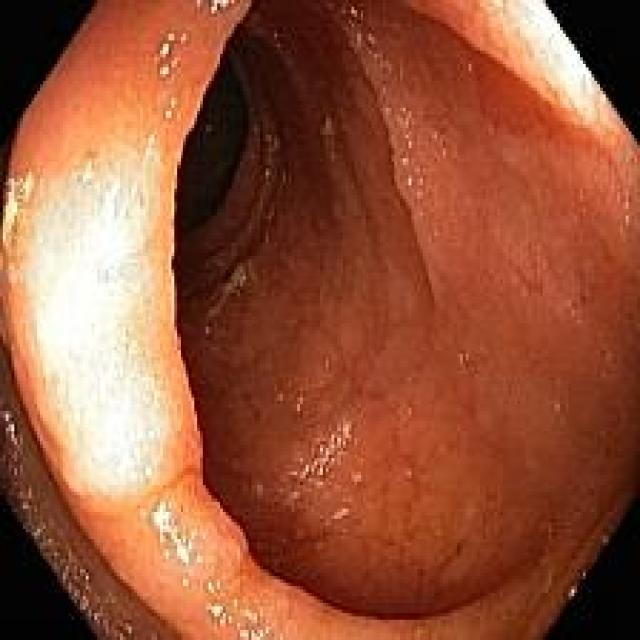ulcerative-colitis-grade-1-2: (189, 4, 639, 619)
